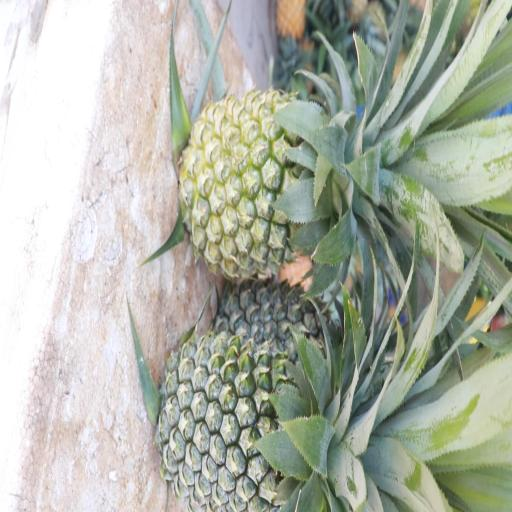Pineapple - v8 v1: (178, 87, 359, 270)
